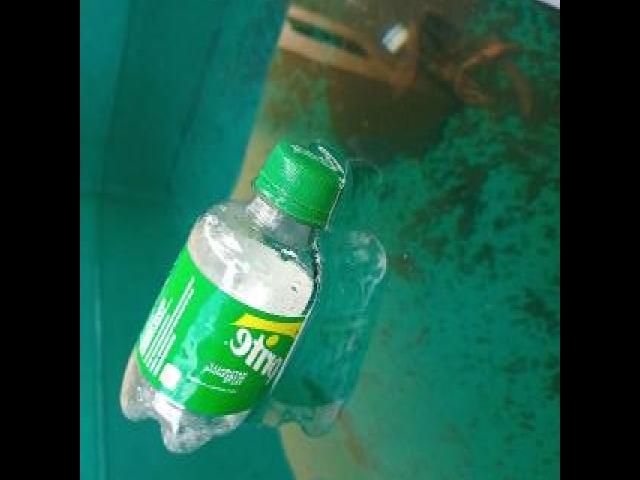Bottle: (115, 129, 352, 462)
